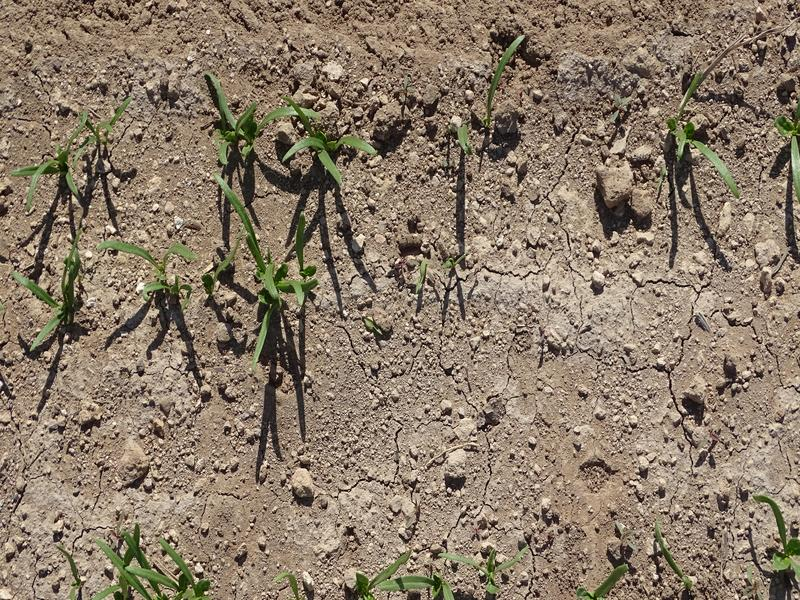Espinaca: (204, 77, 378, 182), (217, 177, 307, 345), (12, 96, 135, 211), (14, 227, 87, 353), (454, 33, 529, 153), (669, 76, 736, 200), (103, 234, 186, 297), (745, 490, 798, 585)
